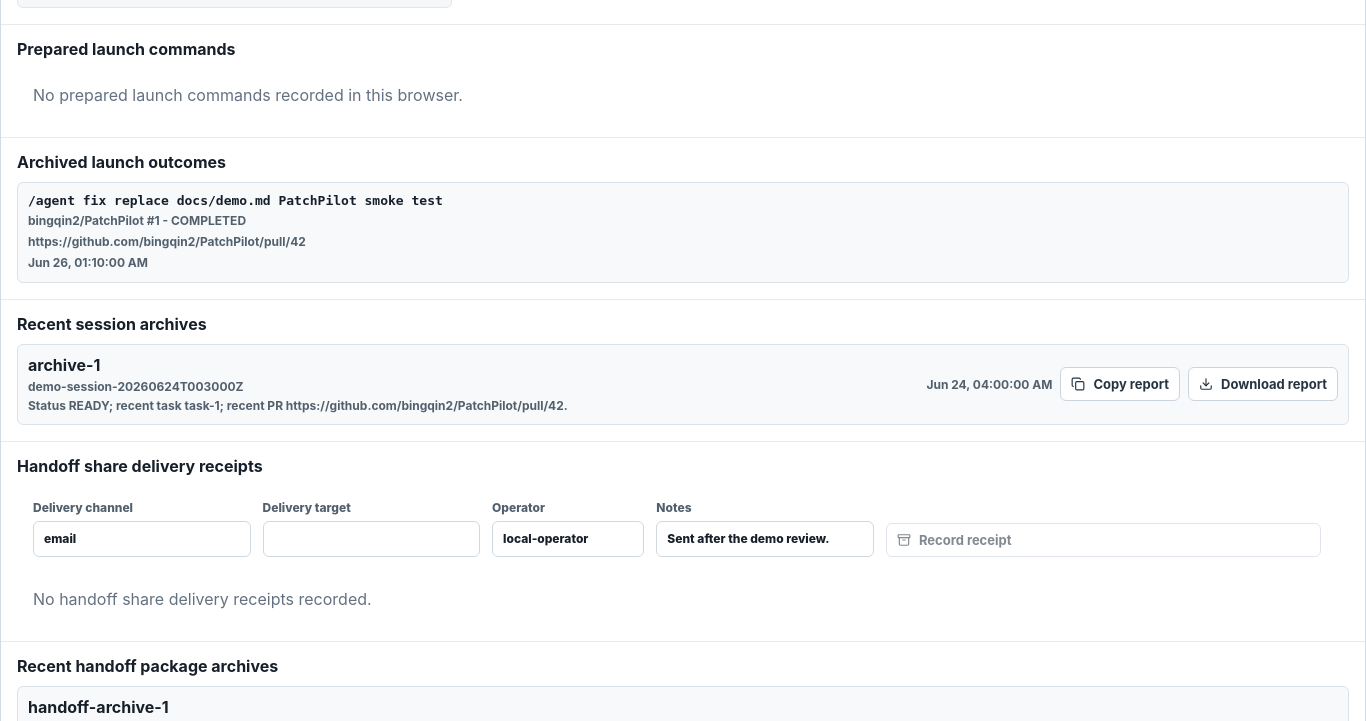
Test case: downloads archived demo session report markdown
(page scrolled)
Click the button with aria-label "Download archived session report archive-1" at (1263, 384), box [1188, 367, 1338, 401]
(page scrolled)
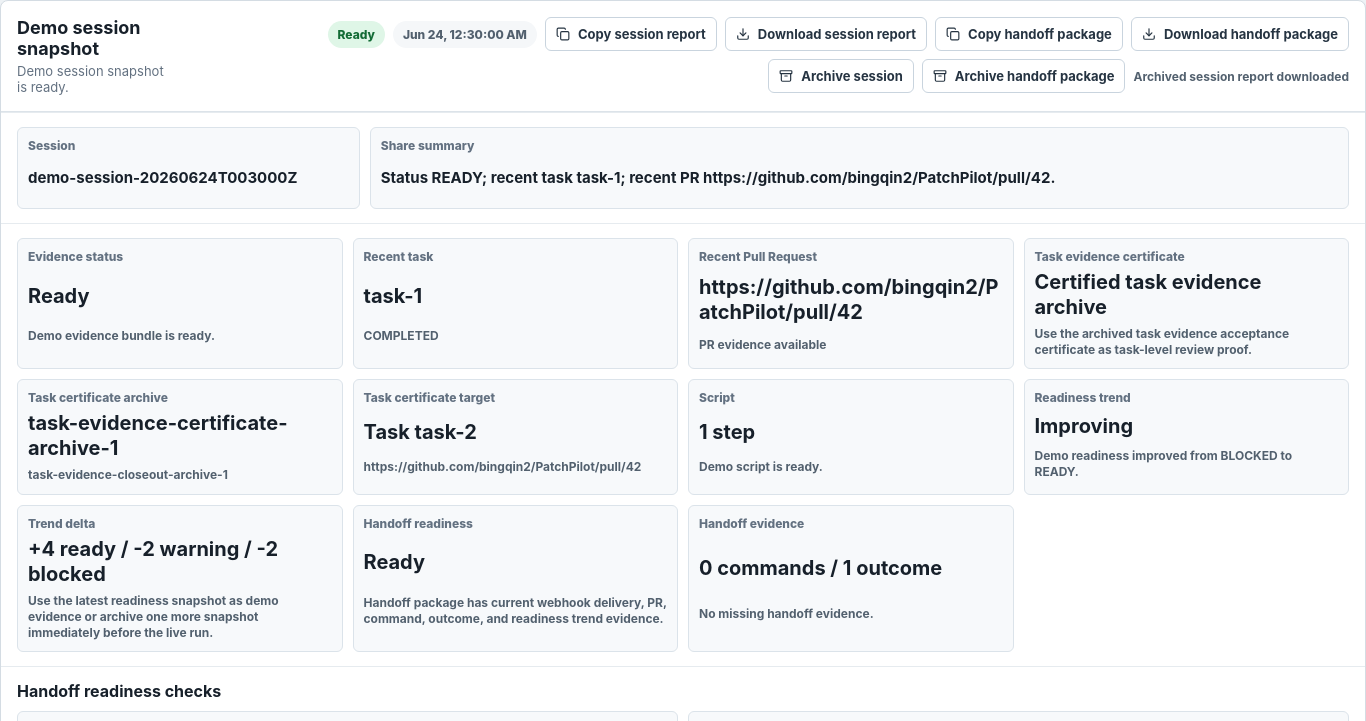
Check: the text "Archived session report downloaded" is shown, box [1134, 68, 1349, 84]
